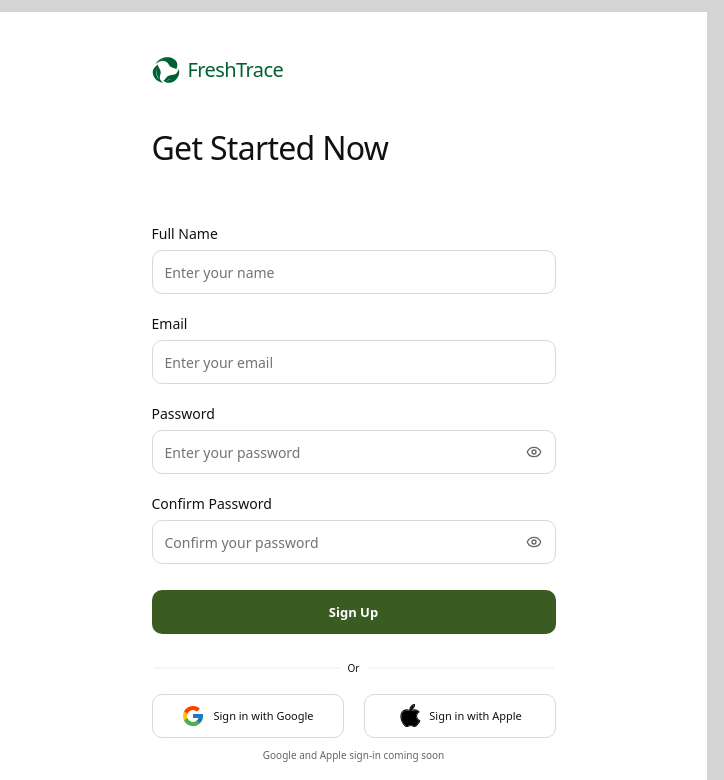
it: signup confirmation and login › does not attempt login for a malformed success response
Type "Test User" into the field labelled "Full Name".
click(354, 272); type("Test User")  # box top-left (152, 250), bottom-right (556, 294)
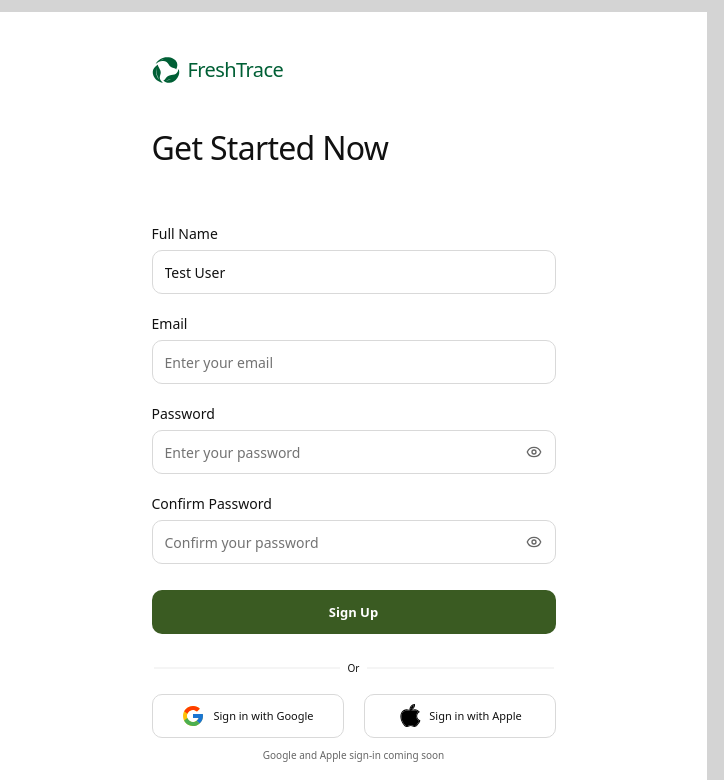
Type "test@example.com" into the field labelled "Email".
click(354, 362); type("test@example.com")  # box top-left (152, 340), bottom-right (556, 384)
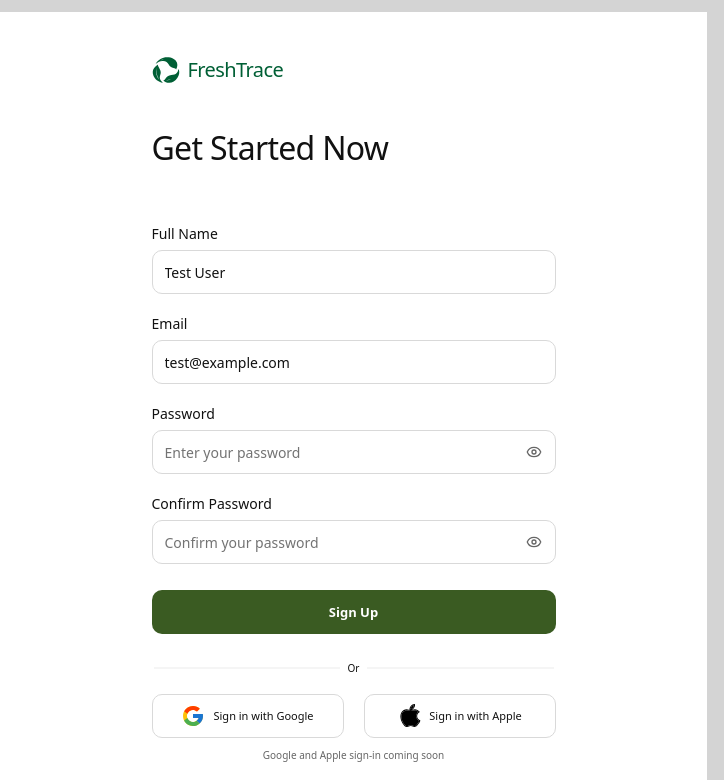
Type "fake-password" into the password field labelled "Password".
click(354, 452); type("fake-password")  # box top-left (152, 430), bottom-right (556, 474)
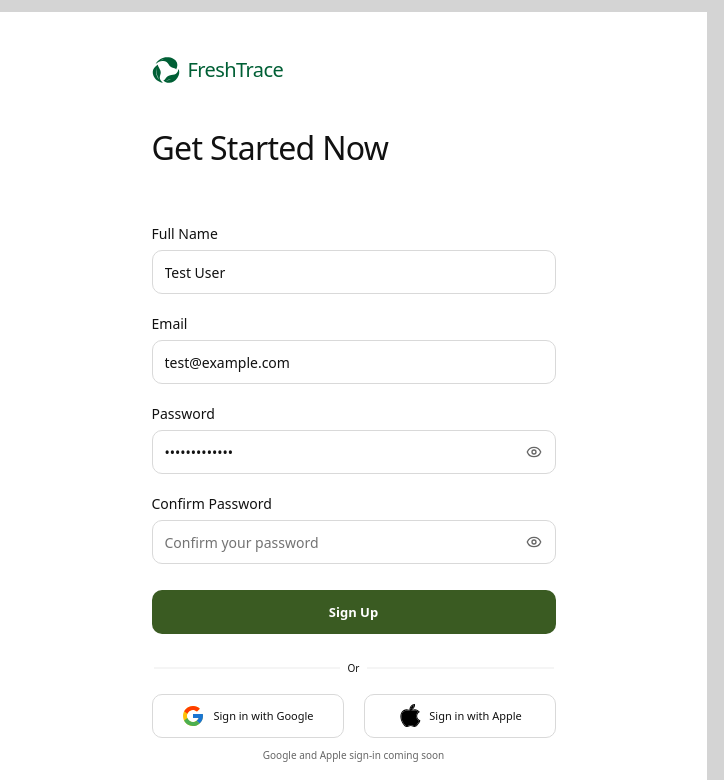
Type "fake-password" into the password field labelled "Confirm Password".
click(354, 542); type("fake-password")  # box top-left (152, 520), bottom-right (556, 564)
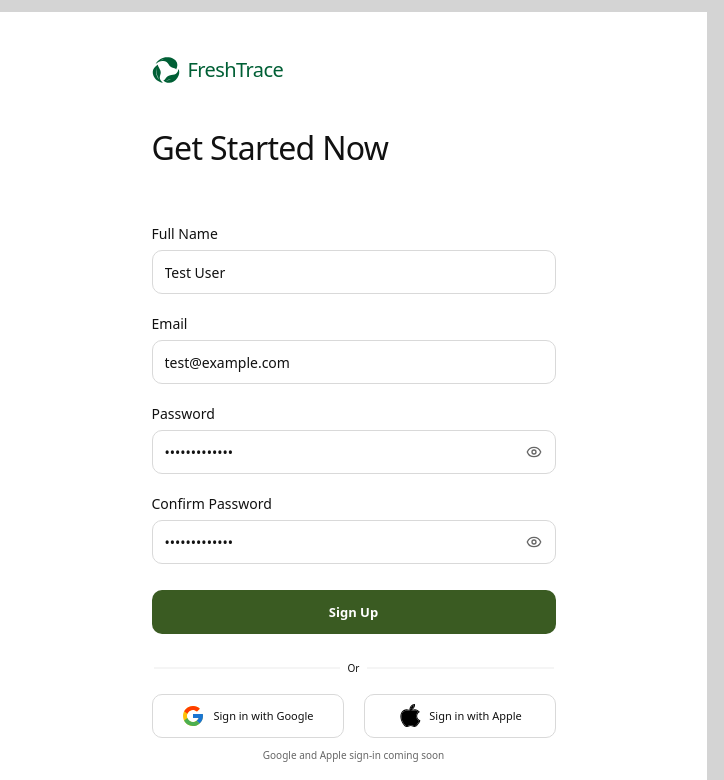
Submit the form named "Create an account", box top-left (152, 224), bottom-right (556, 634)
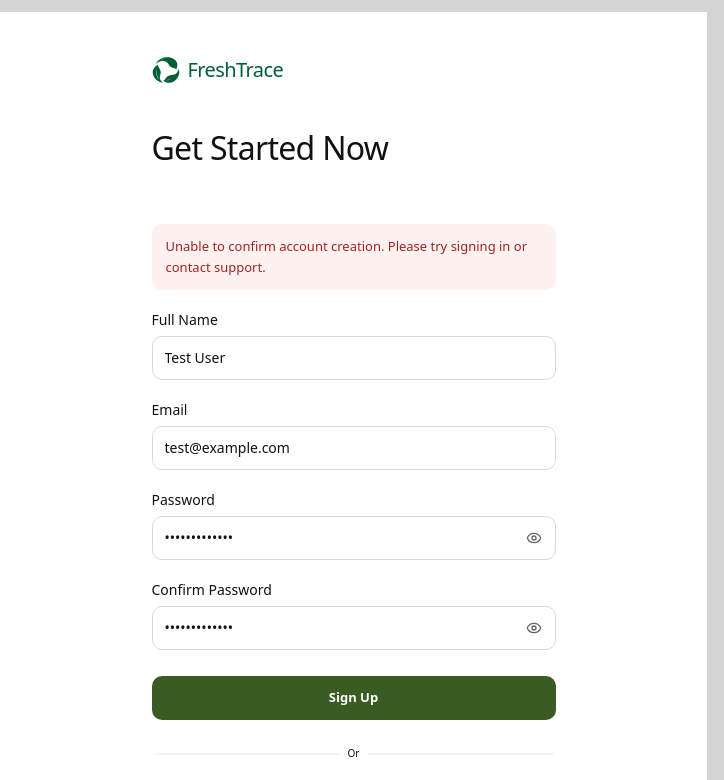
Now the message shows "Unable to confirm account creation", box top-left (166, 237), bottom-right (527, 276)
